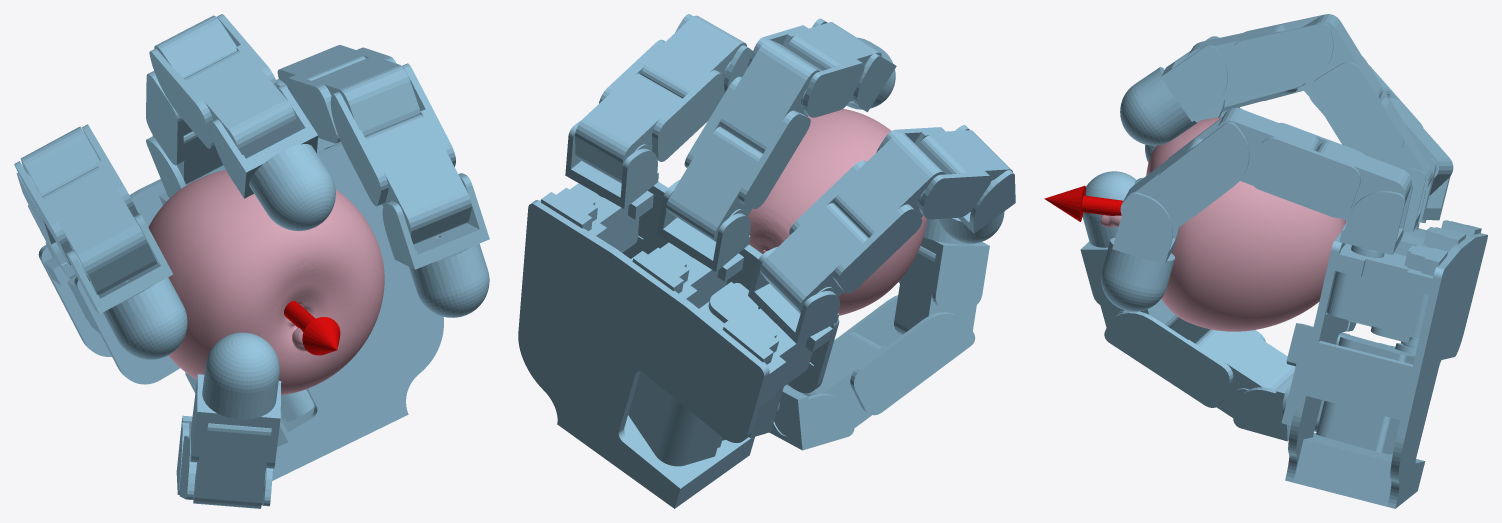
3 renders of one model, left to right at view 1: azimuth 30°, elevation 25°; view 2: azimuth 150°, elevation 25°; view 3: azimuth 270°, elevation 25°, orthographic. The views are drawn at different scales.
Visible parts, largest first — view 1: world, apple.stl; view 2: world, apple.stl; view 3: world, apple.stl.
Part boxes in pixels (x1,y1,x2,y2): world: [14, 14, 489, 508]; apple.stl: [148, 170, 384, 395]; world: [518, 14, 1015, 508]; apple.stl: [747, 108, 927, 315]; world: [1044, 14, 1487, 508]; apple.stl: [1100, 117, 1346, 331].
Bounding box in the file's own units: 0.1646 × 0.1759 × 0.158.
